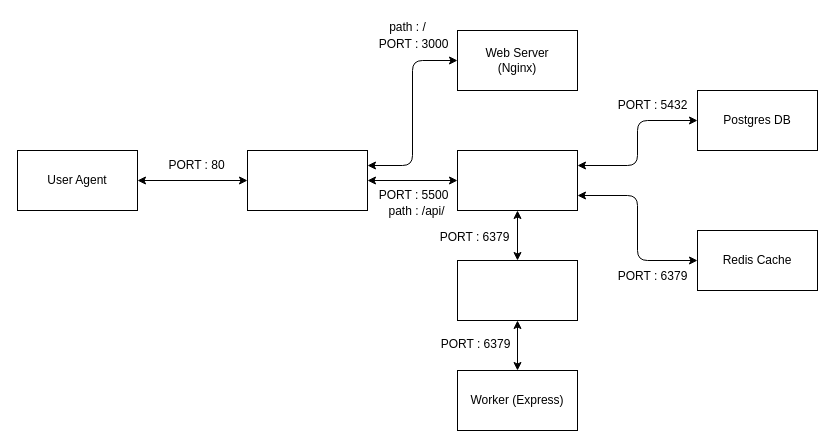
Some shapes in this 835 by 448 pixel diagram are drawn without their labels. Each missing label, with the centre of its shape:
"API Server (Express)" belongs at [517,180].
"Proxy (Nginx)" belongs at [307,180].
"Redis PubSub" belongs at [517,290].
